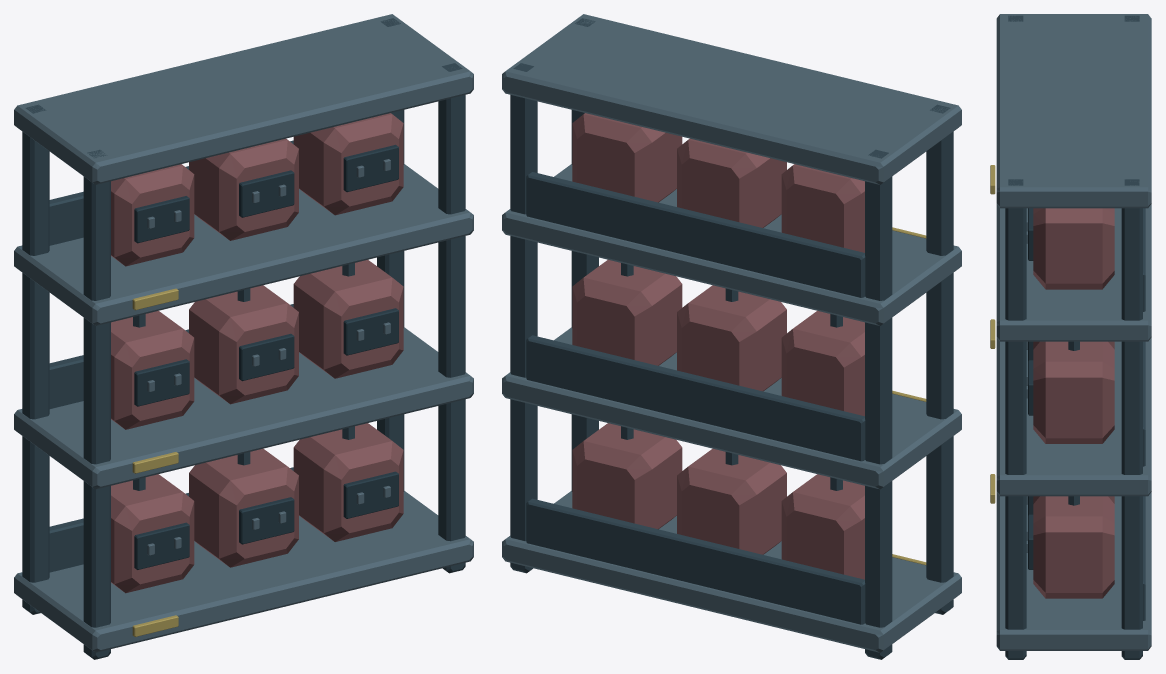
The model's file is 04_ToyStorage.obj.
3 views of the same model, side by side, from view 1: azimuth 30°, elevation 25°; view 2: azimuth 150°, elevation 25°; view 3: azimuth 270°, elevation 25° (orthographic). The views are drawn at different scales.
Size of the model in its own units: 2.15 by 2.7 by 0.8315.
